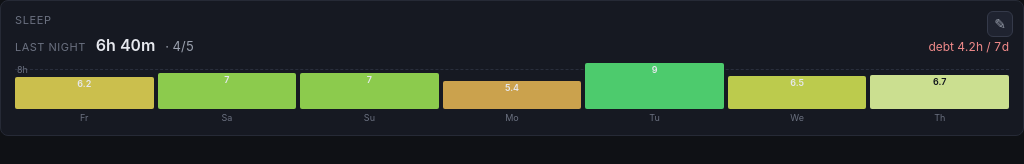
Scenario: SleepBlock inline edit › clicking edit shows the hours input pre-filled and the quality picker pre-set
The image size is (1024, 164).
Click the button with test id "block-edit". click: (1000, 24)
box: [987,11,1013,37]
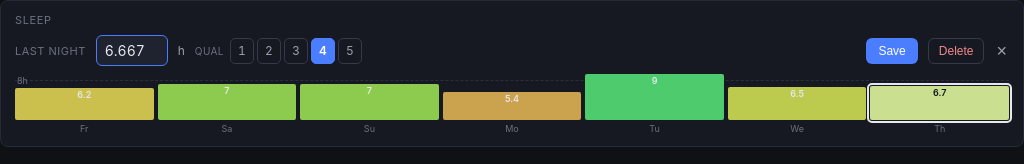
Expected: the button with test id "quality-option" reads "4", [311,38,335,64]
Expected: the field with test id "sleep-hours-input" holds "6.667", [96,35,168,66]
